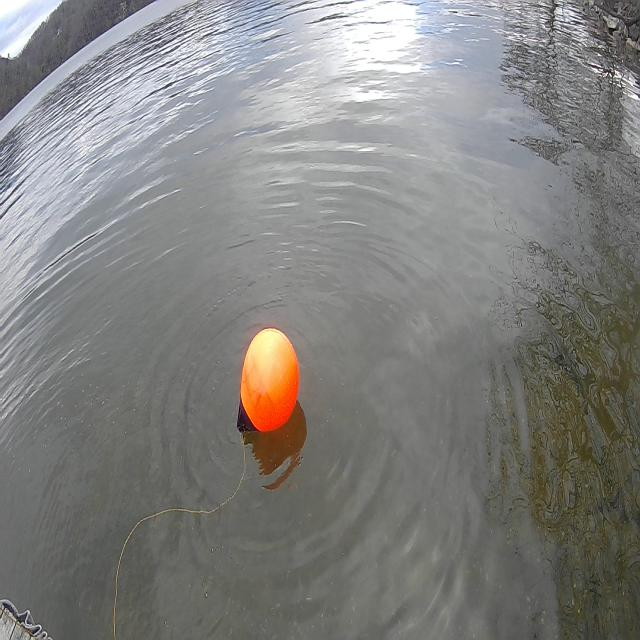Buoy: (235, 322, 302, 442)
